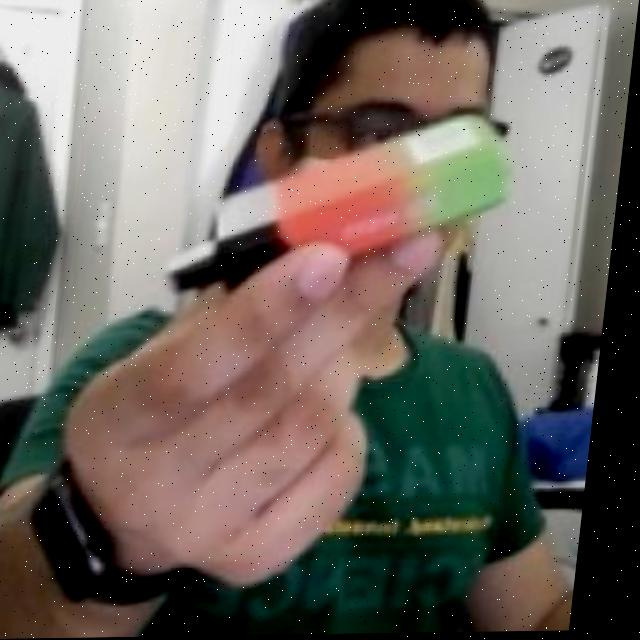vape: (165, 120, 529, 325)
